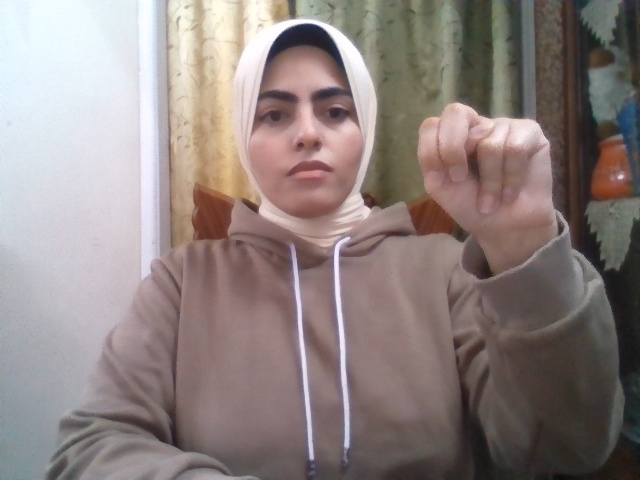N: (418, 102, 554, 234)
